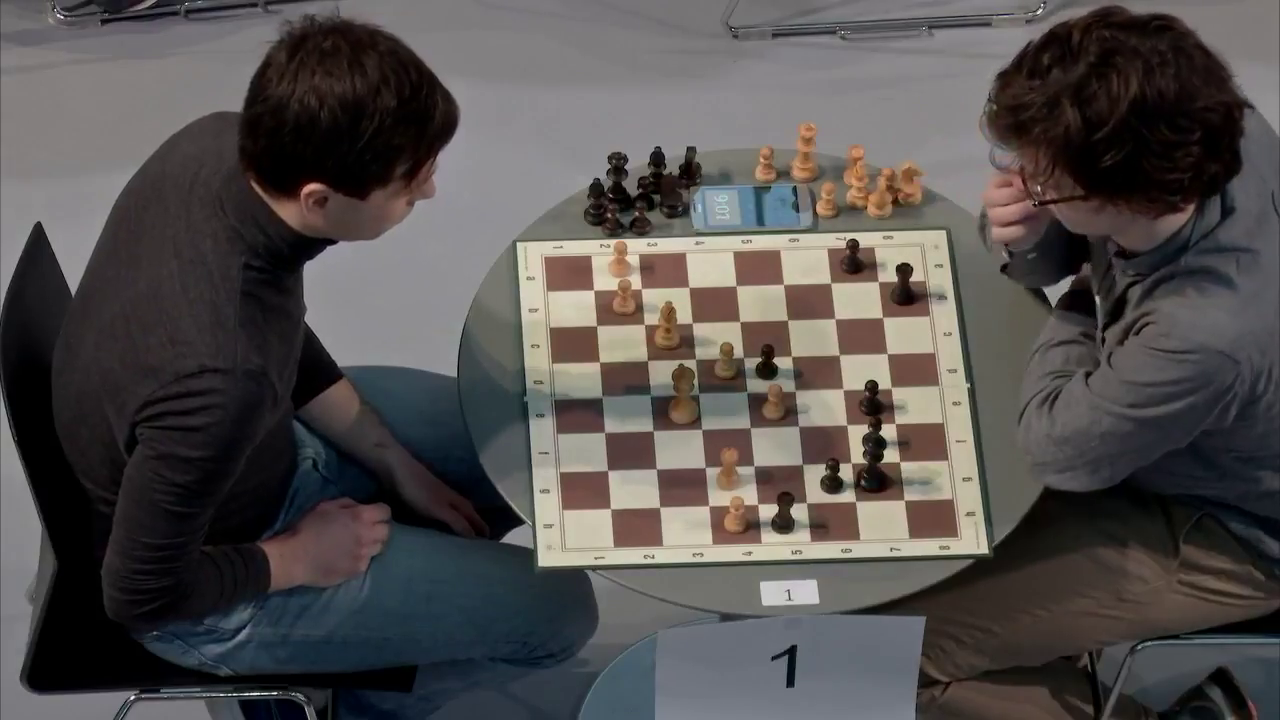black-bishop: (643, 143, 670, 196), (583, 177, 609, 227)
black-king: (856, 430, 888, 494)
black-knight: (657, 171, 685, 219), (676, 145, 702, 189)
black-pawn: (839, 238, 866, 275), (861, 416, 888, 452), (631, 175, 656, 213), (858, 379, 883, 417), (819, 457, 844, 495), (754, 344, 779, 381), (601, 203, 627, 238), (628, 200, 653, 236)
black-queen: (601, 150, 633, 214)
black-rook: (889, 262, 917, 307), (771, 490, 795, 535)
white-bishop: (845, 160, 874, 211), (654, 300, 681, 350)
white-king: (666, 363, 700, 426)
white-knight: (897, 160, 924, 207), (866, 175, 894, 220)
white-pawn: (713, 341, 739, 380), (873, 166, 898, 205), (815, 180, 840, 219), (723, 495, 748, 534), (754, 145, 779, 183), (612, 278, 637, 316), (607, 240, 632, 278), (762, 383, 786, 421)
white-queen: (789, 121, 819, 183)
white-rook: (842, 144, 870, 188), (715, 446, 741, 492)
